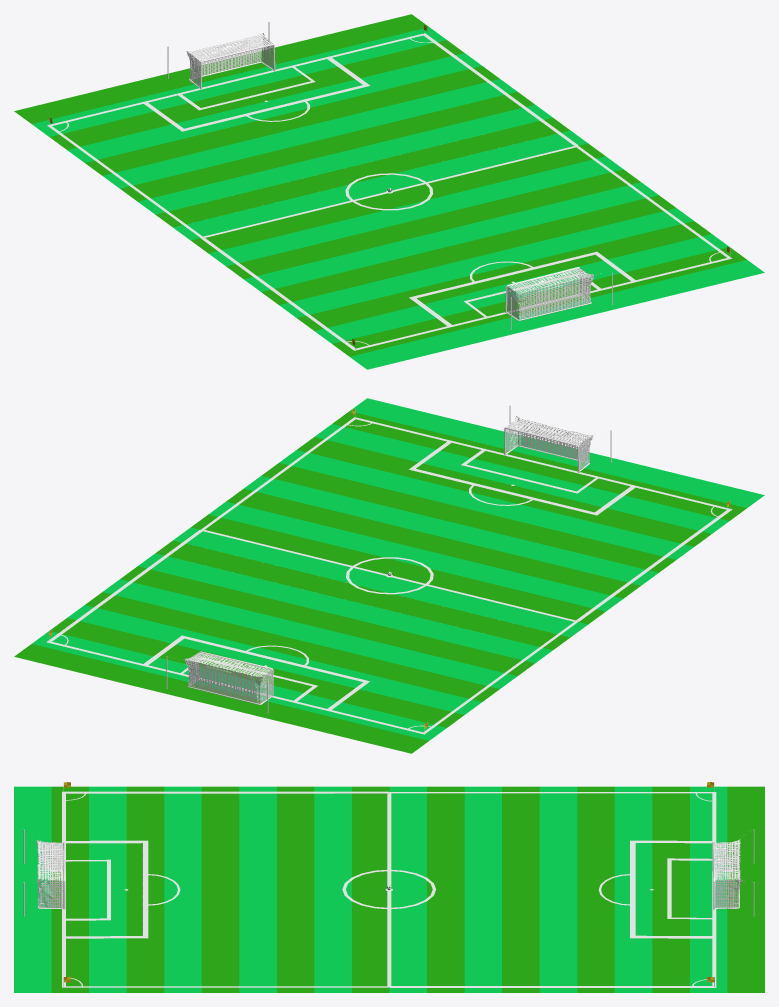
Rendered from field.glb.
3 views of the same model, one above another, from view 1: azimuth 30°, elevation 25°; view 2: azimuth 150°, elevation 25°; view 3: azimuth 270°, elevation 25° (orthographic). The views are drawn at different scales.
Visible parts, largest first — view 1: Object_11, Object_7, Object_6, Object_5, Object_2, Object_4, Object_3; view 2: Object_11, Object_7, Object_6, Object_5, Object_2, Object_3, Object_4; view 3: Object_11, Object_7, Object_6, Object_5, Object_2, Object_3, Object_4.
Part boxes in pixels (x1,y1,x2,y2): Object_11: (14,14,711,330); Object_7: (32,27,693,317); Object_6: (314,234,764,369); Object_5: (47,25,731,350); Object_2: (332,247,746,356); Object_4: (507,268,593,319); Object_3: (167,21,612,329); Object_11: (14,437,711,753); Object_7: (32,450,693,740); Object_6: (314,398,764,533); Object_5: (46,408,732,734); Object_2: (332,411,746,520); Object_3: (166,405,611,713); Object_4: (506,416,593,469); Object_11: (126,786,764,992); Object_7: (164,786,727,992); Object_6: (14,786,126,992); Object_5: (37,782,740,987); Object_2: (51,786,88,992); Object_3: (23,829,754,916); Object_4: (36,840,63,908).
Bounding box in the file's own units: 30.72 × 2.38 × 47.26.
